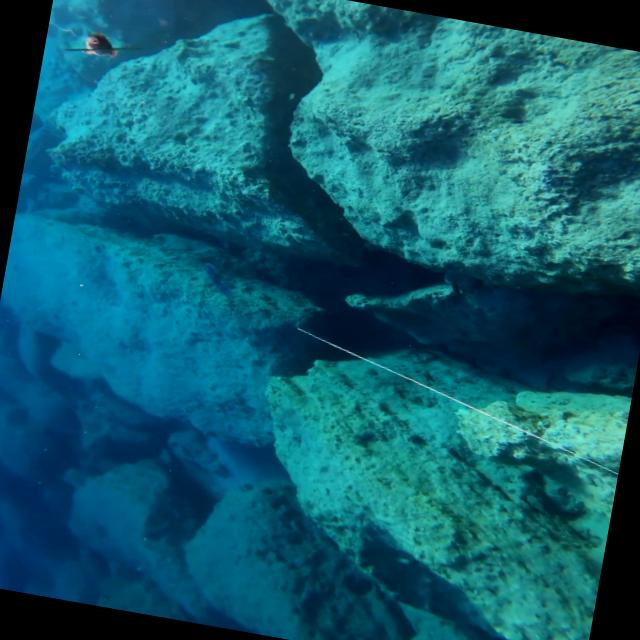Balon Baligi: (196, 263, 240, 305)
